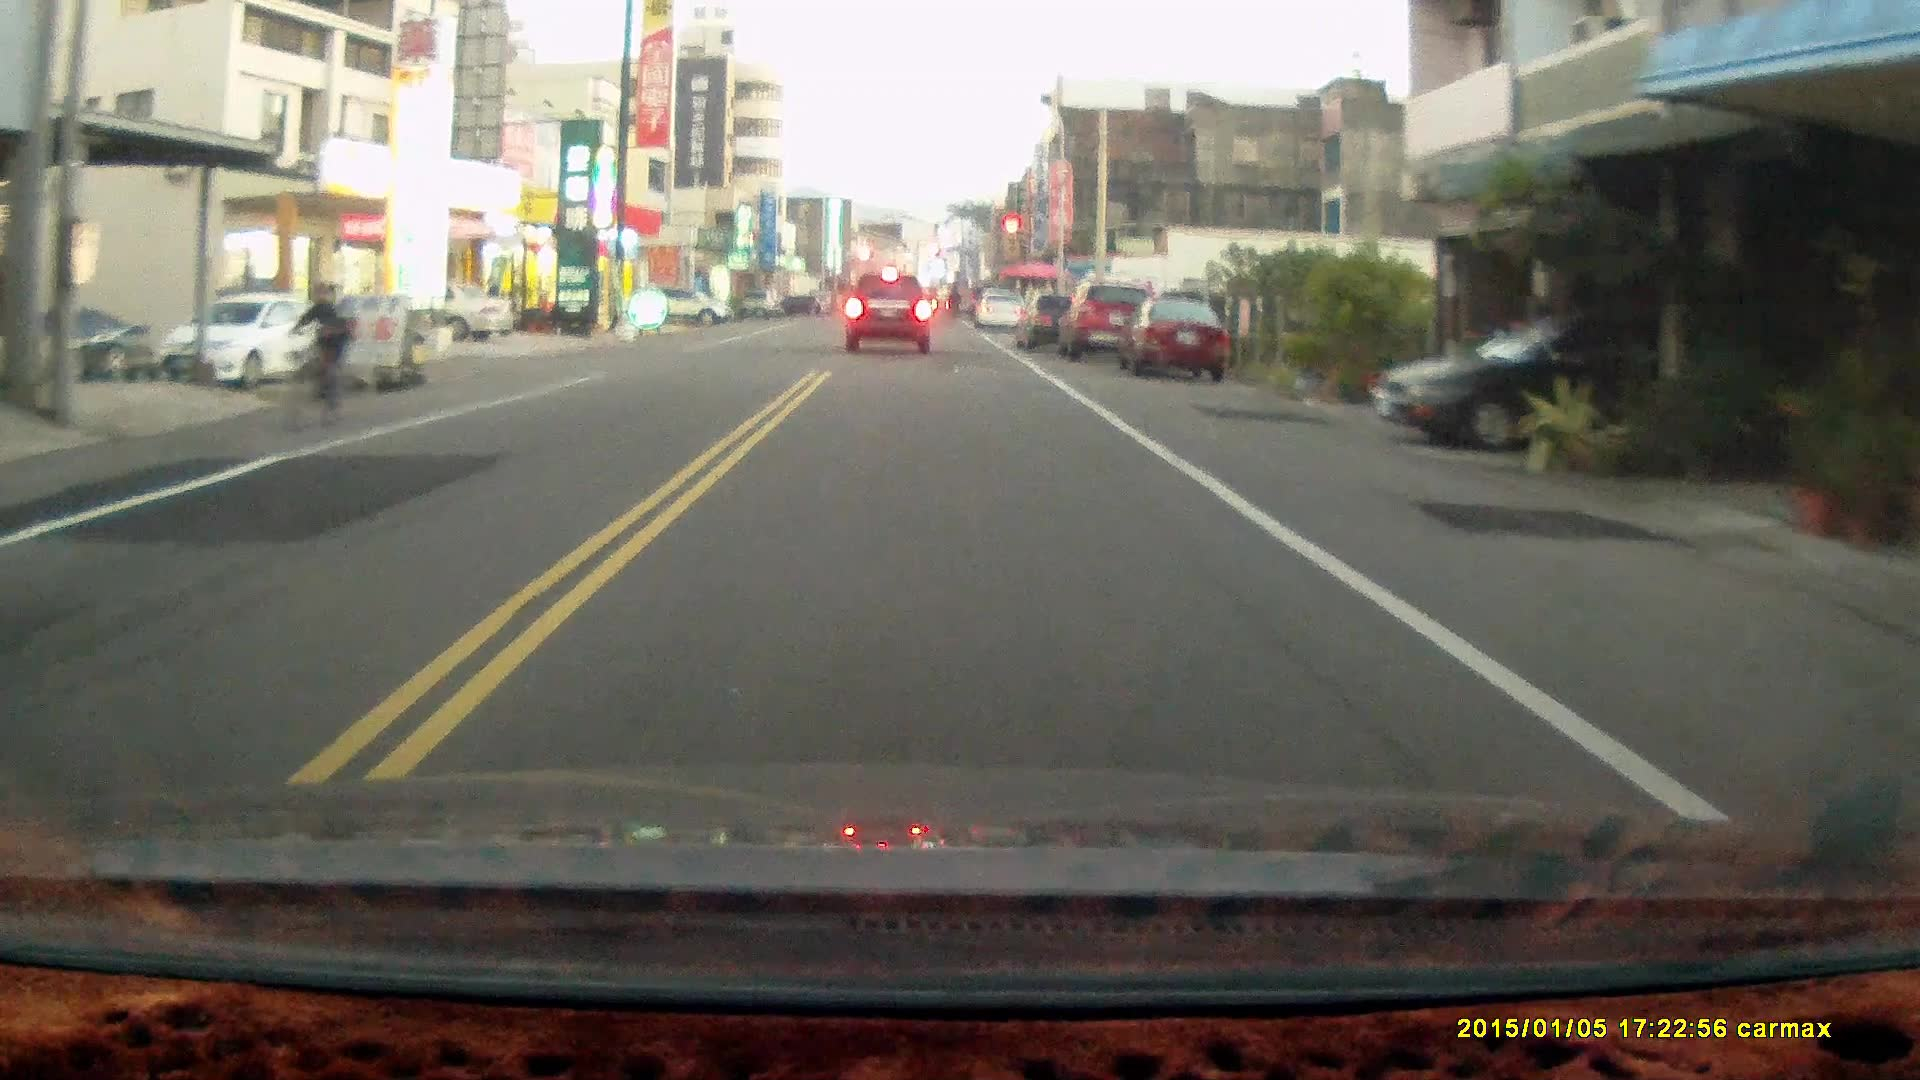rider: (281, 277, 350, 439)
vehicle: (1375, 310, 1767, 449), (164, 289, 340, 386), (347, 278, 520, 344), (1113, 299, 1237, 390), (1061, 285, 1161, 364), (844, 271, 935, 356), (645, 284, 729, 329)
